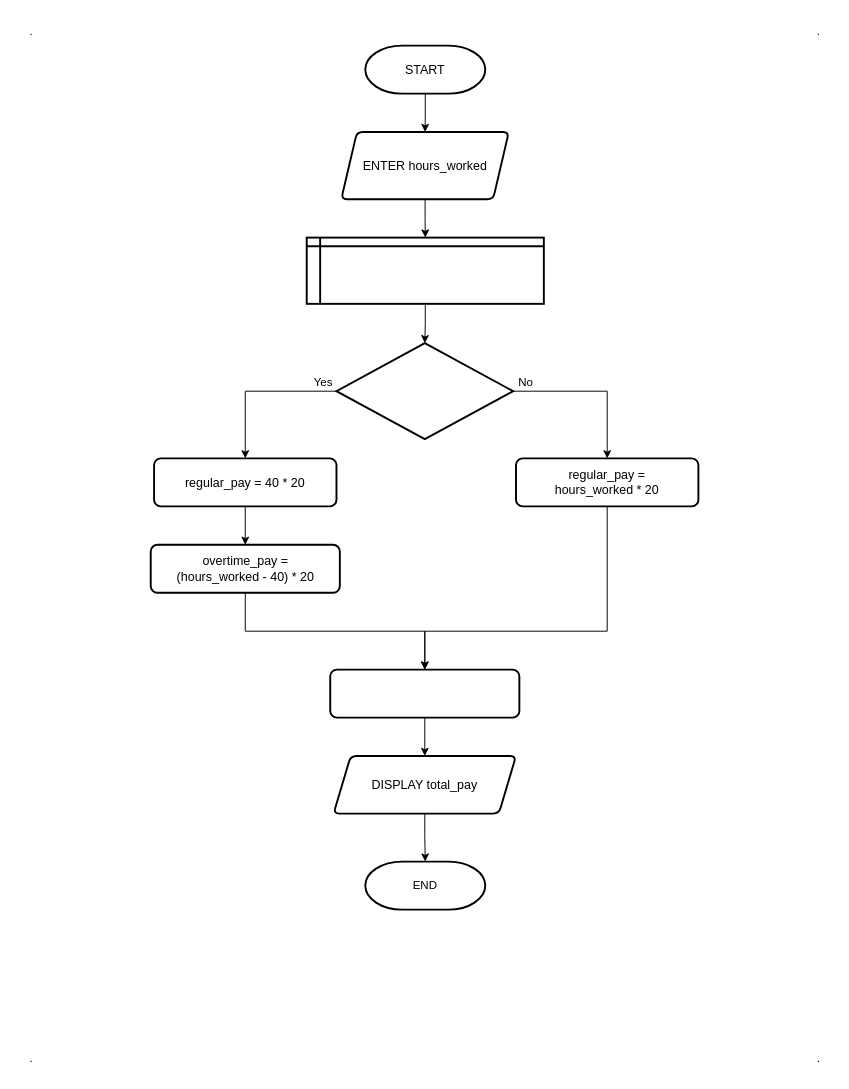
Some shapes in this 849 by 1089 pixel diagram are drawn without their labels. The shapes that lost their labels are listed below. From the top down, each one's centre as x and y in pixels, then its label:
At (x=424, y=270): "regular_pay = 0 overtime_pay = 0".
At (x=424, y=391): "hours_worked > 40".
At (x=424, y=693): "total_pay = regular_pay + overtime_pay".
